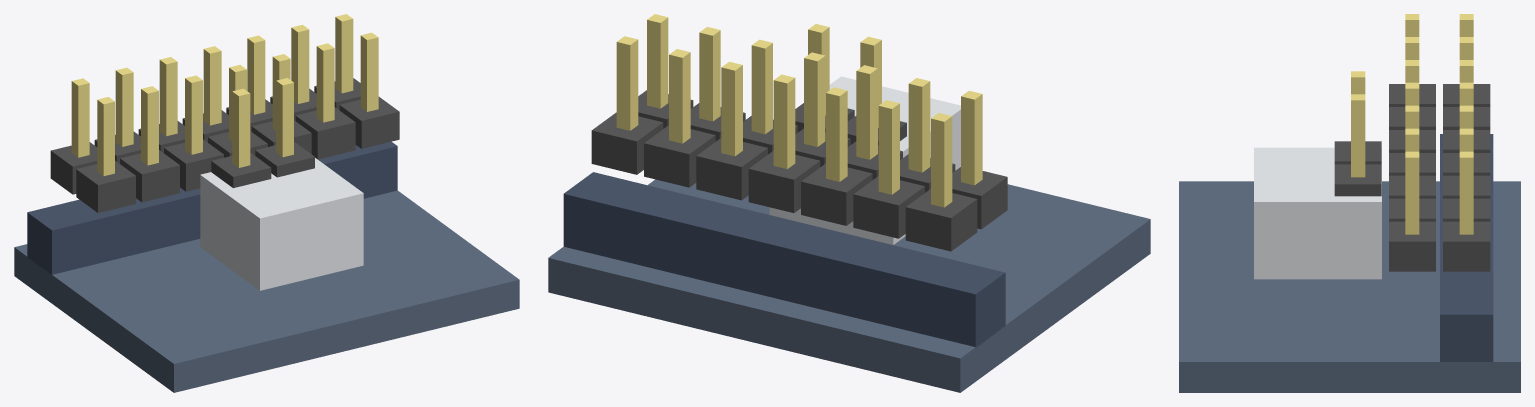
File: dip-switch-8.glb
3 renders of one model, left to right at view 1: azimuth 30°, elevation 25°; view 2: azimuth 150°, elevation 25°; view 3: azimuth 270°, elevation 25°, orthographic. The views are drawn at different scales.
Visible parts, largest first — view 1: dip-switch-8_mesh; view 2: dip-switch-8_mesh; view 3: dip-switch-8_mesh.
Boxes of the visible parts, box(x1,y1,x2,y2) form: dip-switch-8_mesh: box(14, 14, 519, 392); dip-switch-8_mesh: box(548, 14, 1150, 392); dip-switch-8_mesh: box(1179, 14, 1520, 392).
Bounding box in the file's own units: 20 × 11.2 × 16.
